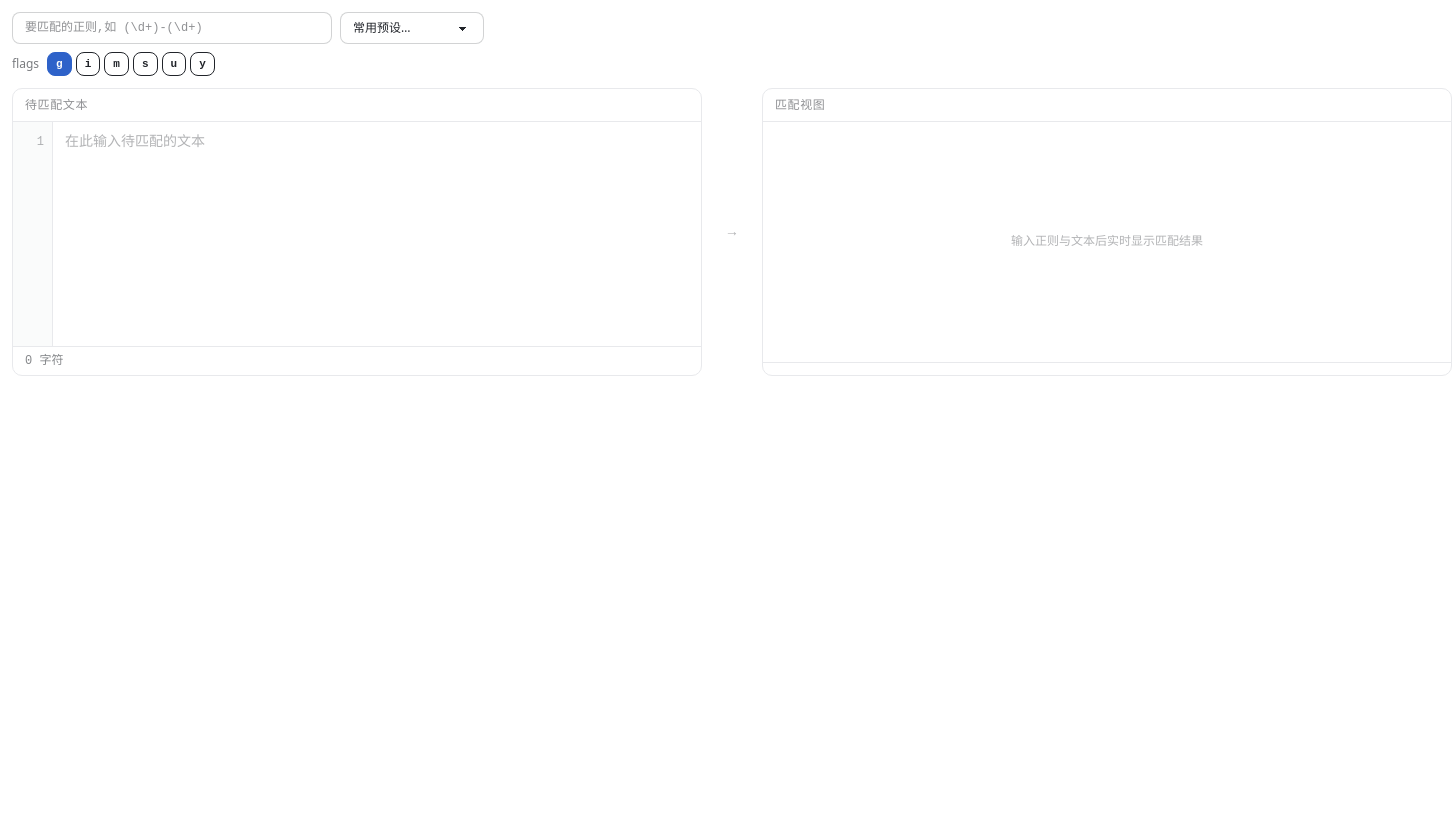
Test case: RegexMatch 重做(FE4):核心实时壳 › Ctrl+Enter 立即冲刷当前快照(flush 不等防抖)
This screenshot has width=1452, height=822.
Type "\\d+" into the field with placeholder "要匹配的正则,如 (\\d+)-(\\d+)" at (172, 28), box [12,12,332,44]
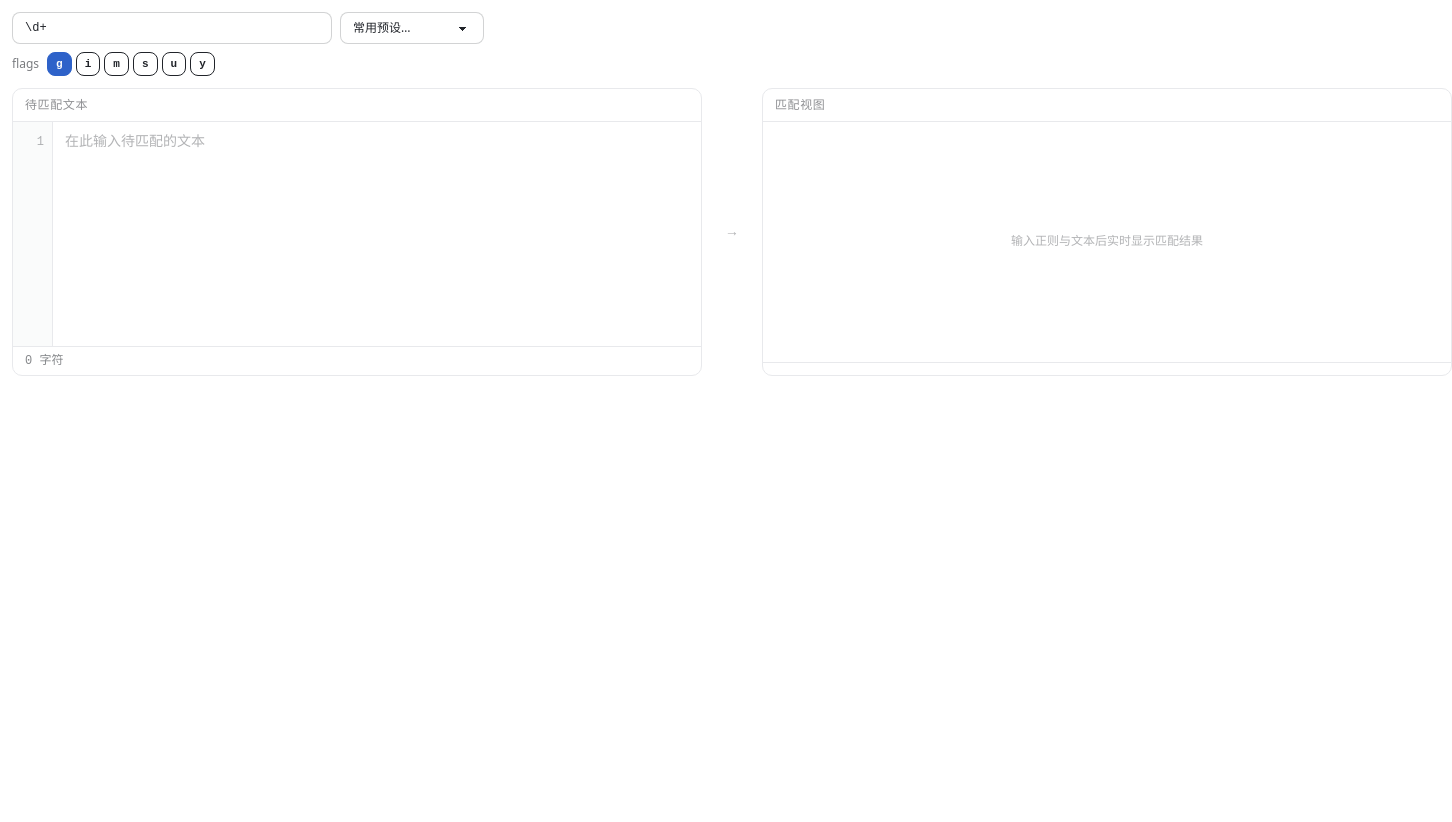
Type "a1b2" into the text box with placeholder "在此输入待匹配的文本" at (377, 234), box [53,122,701,346]
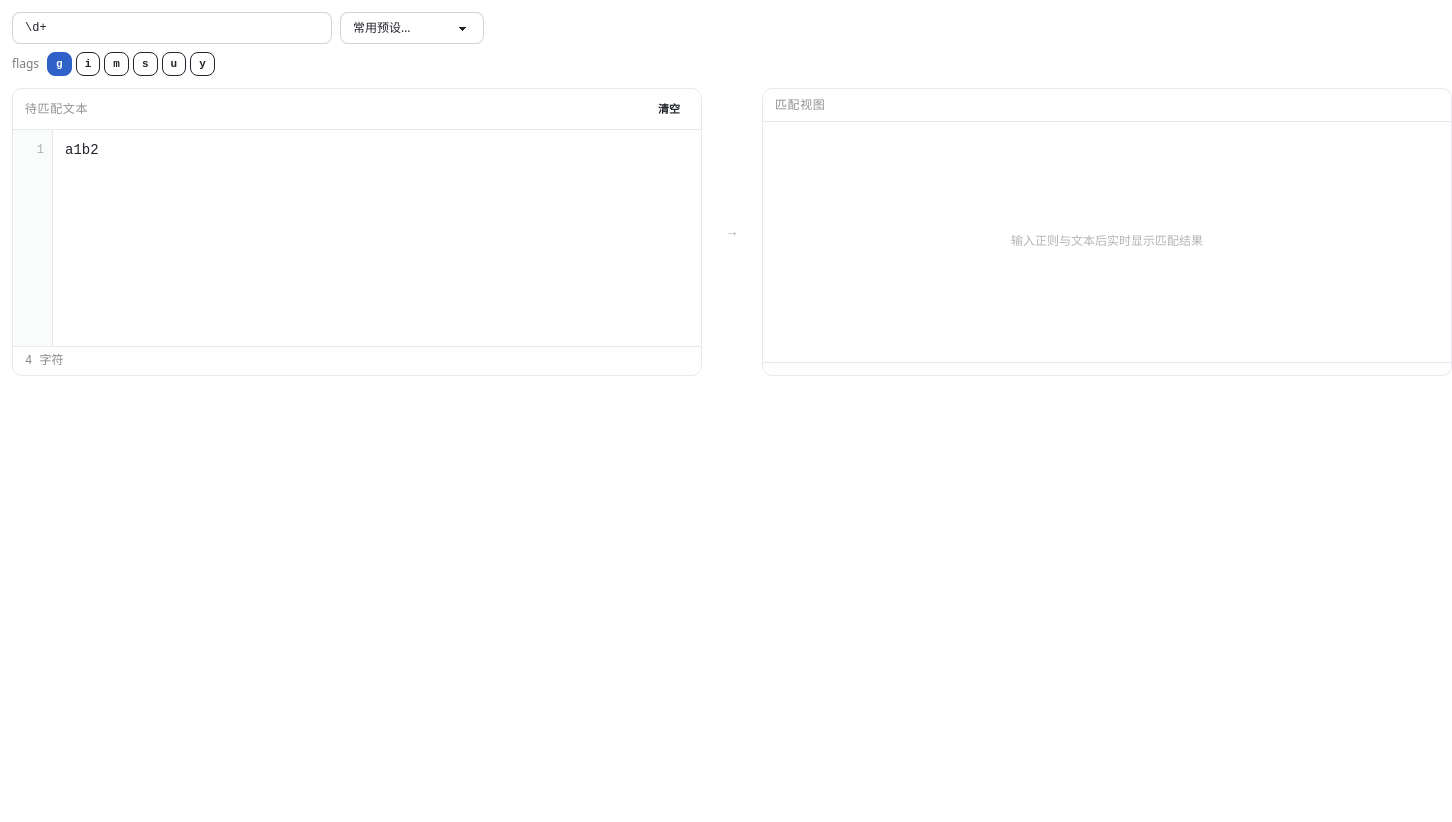
Press Ctrl in the element with class "rgx-root", box [12,12,1451,376]
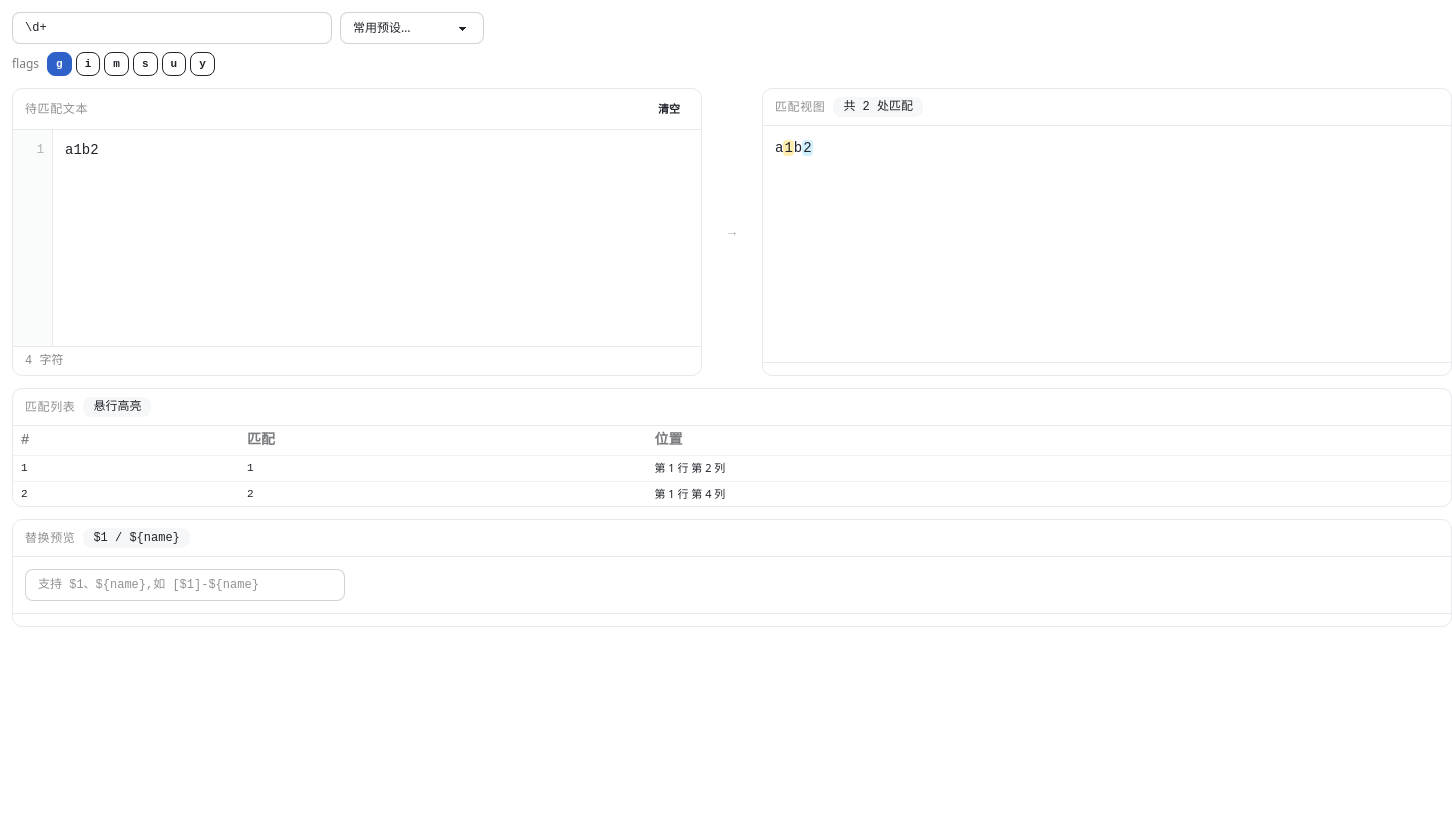
Result: the element with class "rgx-root" shows "共 2 处匹配" at [843,100,913,114]
